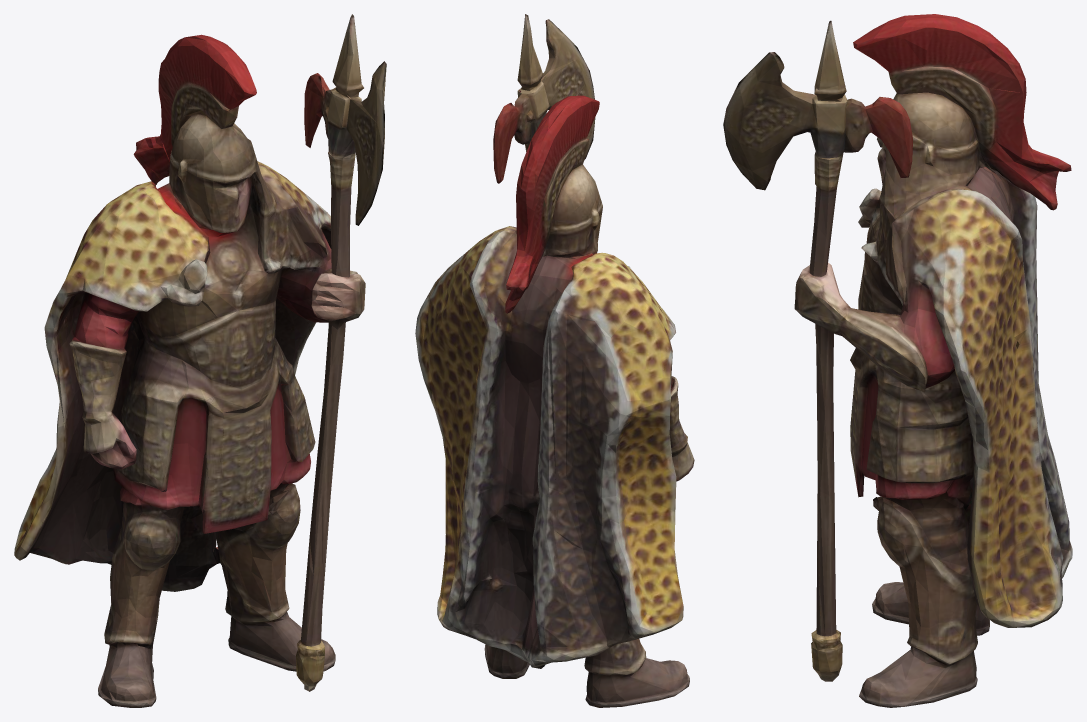
File: gateHalberdier.glb
The picture shows the model from 3 angles, left to right: view 1: azimuth 30°, elevation 25°; view 2: azimuth 150°, elevation 25°; view 3: azimuth 270°, elevation 25°; orthographic projection. The views are drawn at different scales.
Visible parts, largest first — view 1: world; view 2: world; view 3: world.
Part boxes in pixels (bbox=[...]): world: bbox=[14, 14, 386, 707]; world: bbox=[415, 14, 694, 707]; world: bbox=[723, 14, 1072, 707].
Size of the model in its own units: 0.481 by 0.9863 by 0.4558.
1 material, 1 textured.
